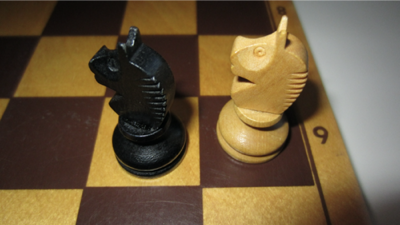black-knight: (87, 25, 190, 180)
white-knight: (215, 15, 311, 167)
